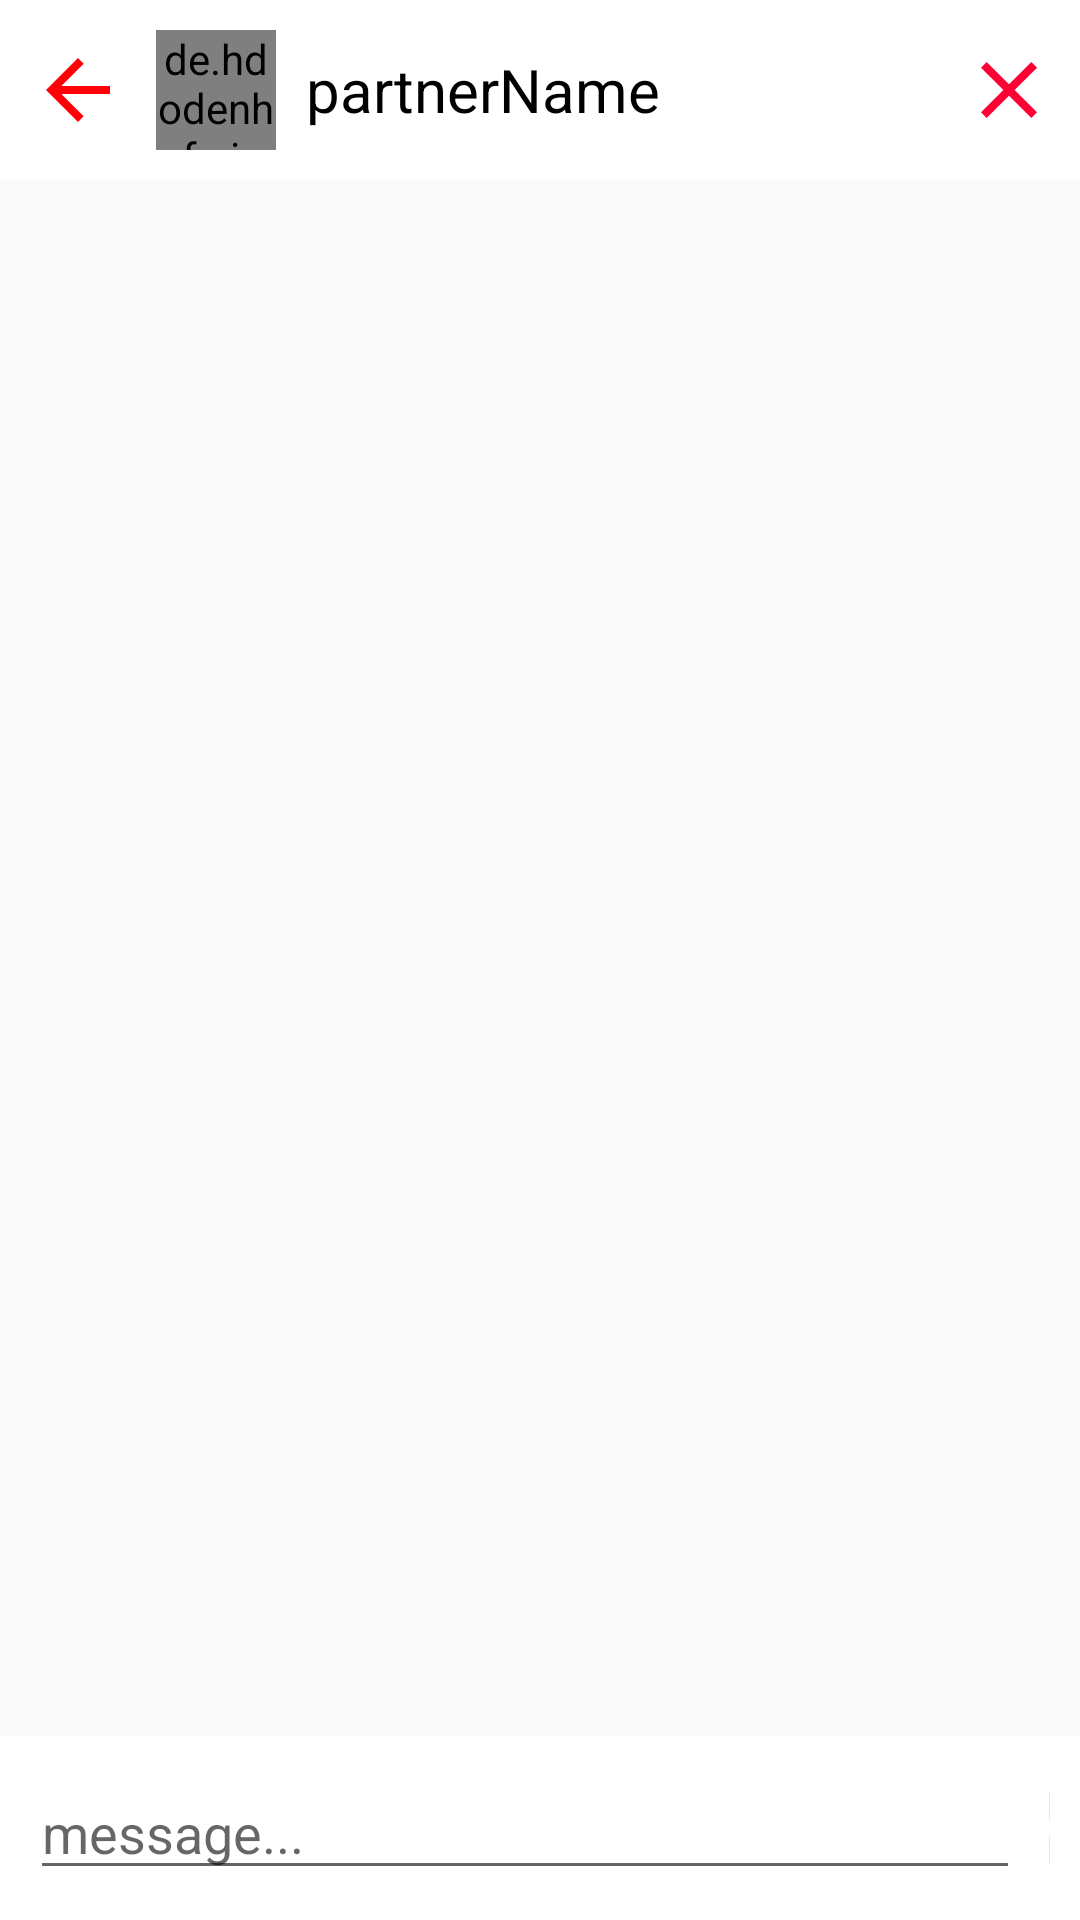

Icon click points for this 1080 × 1920 phone screenshot, format (x,y):
arrow back: (78,90)
clear: (1009,90)
